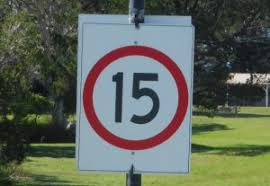sp15: (77, 47, 197, 151)
